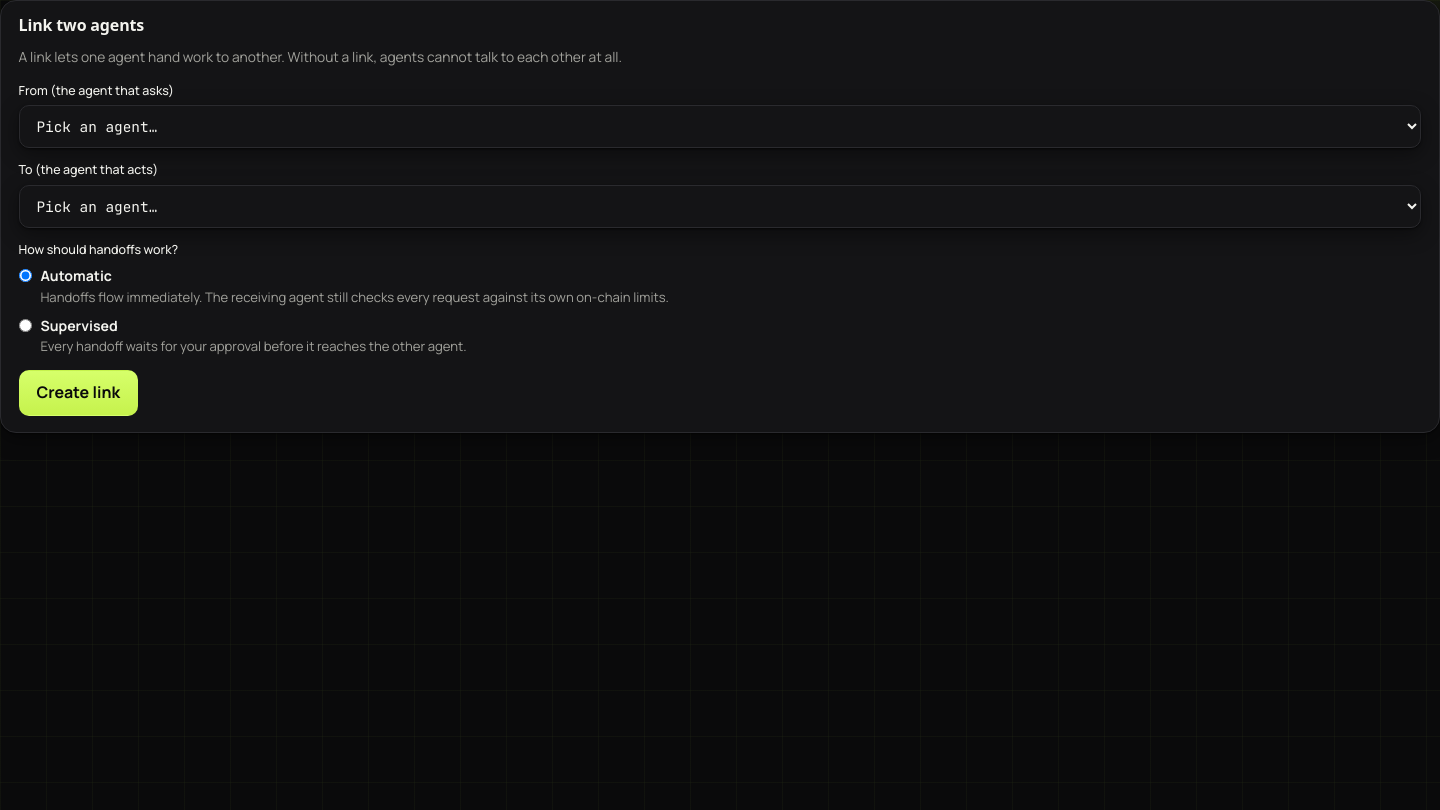
Test: LinkCreateForm › warns inline when the target agent is revoked
This screenshot has width=1440, height=810.
Select "Dead (revoked)" in the dropdown labelled "To (the agent that acts)" at (720, 206), box x1=19 y1=185 x2=1421 y2=228
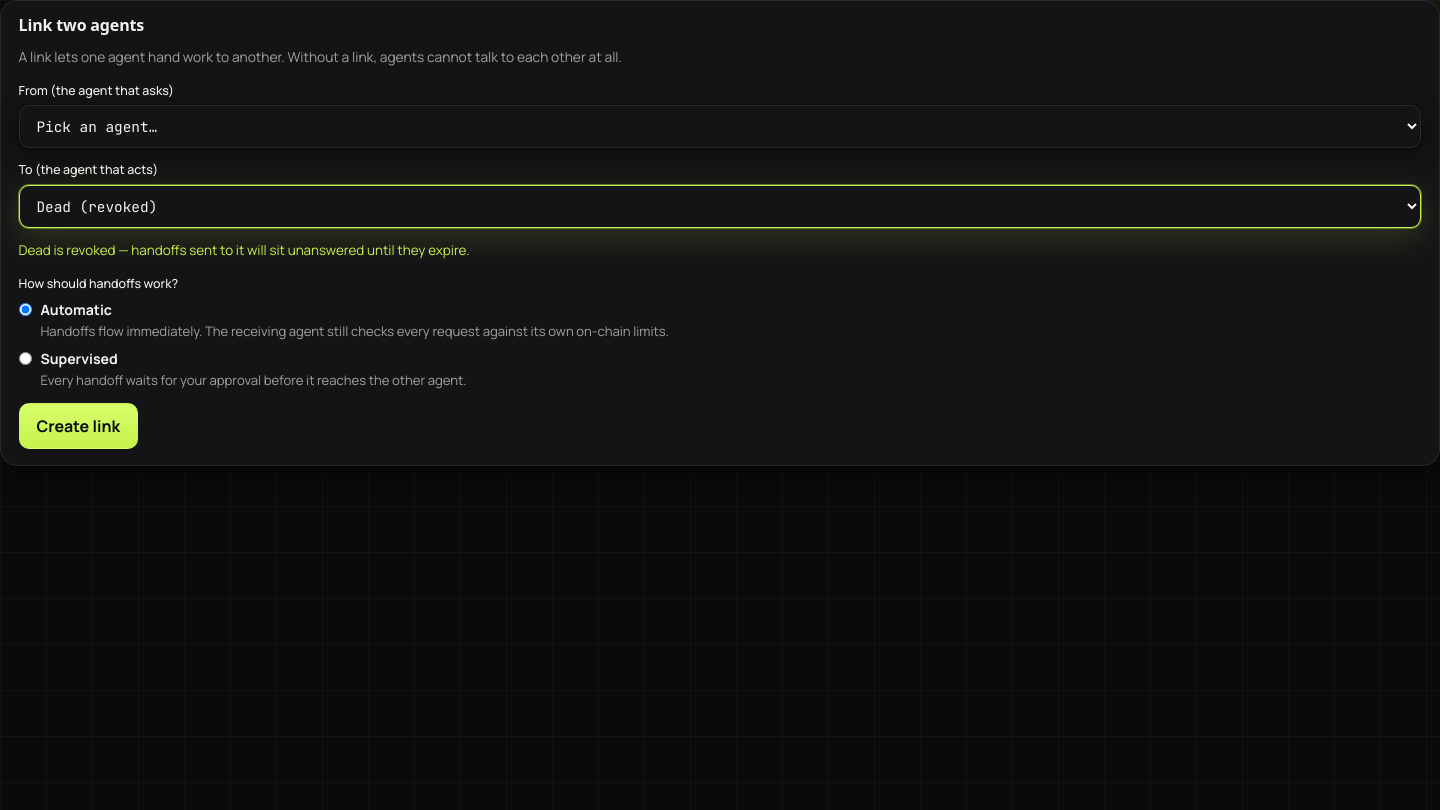
Result: the message with test id "link-target-warning" shows "revoked" at x1=19 y1=241 x2=470 y2=259
